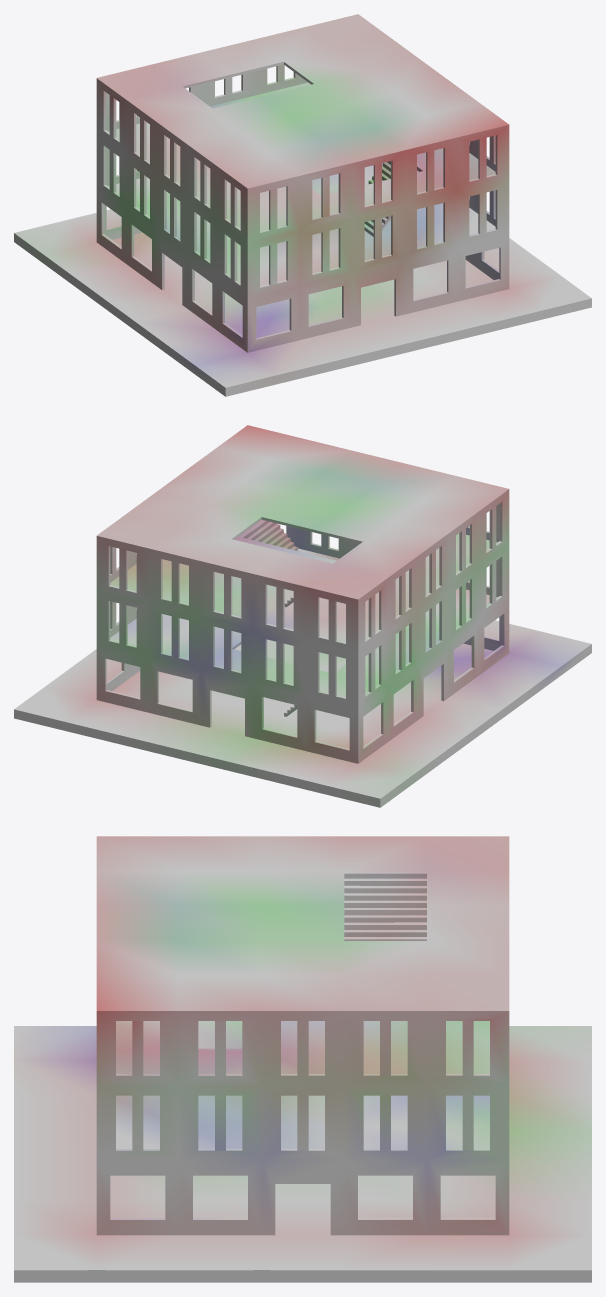
Rendered from Structures_5.fbx.
3 views of the same model, one above another, from view 1: azimuth 30°, elevation 25°; view 2: azimuth 150°, elevation 25°; view 3: azimuth 270°, elevation 25° (orthographic). The views are drawn at different scales.
Visible parts, largest first — view 1: Structures_5; view 2: Structures_5; view 3: Structures_5.
Boxes of the visible parts, x1,y1,x2,y2 form: Structures_5: (14, 14, 591, 396); Structures_5: (14, 425, 591, 807); Structures_5: (14, 836, 591, 1282).
Size of what is drawn, in the model's own units: 2100 by 950 by 2100.
